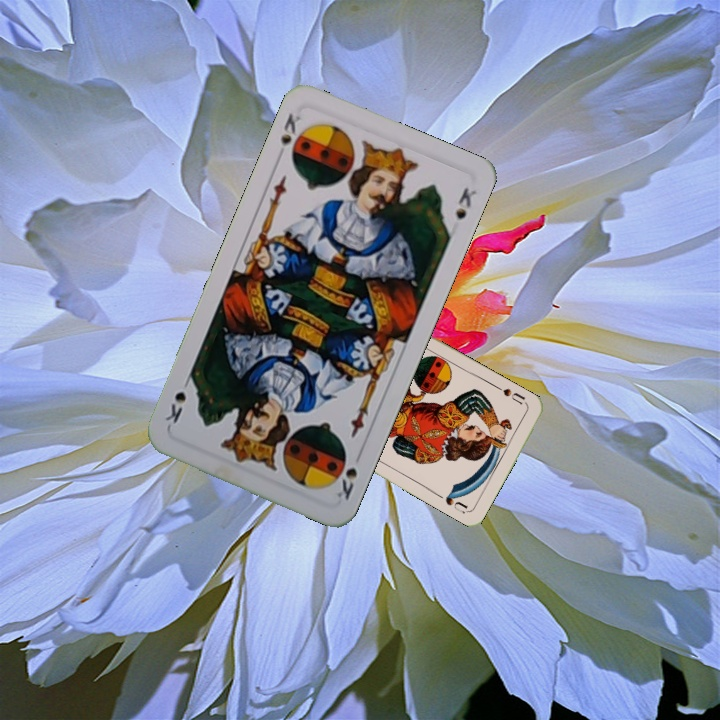SK: (272, 109, 308, 164), (332, 463, 360, 503)
SU: (493, 382, 530, 408)
